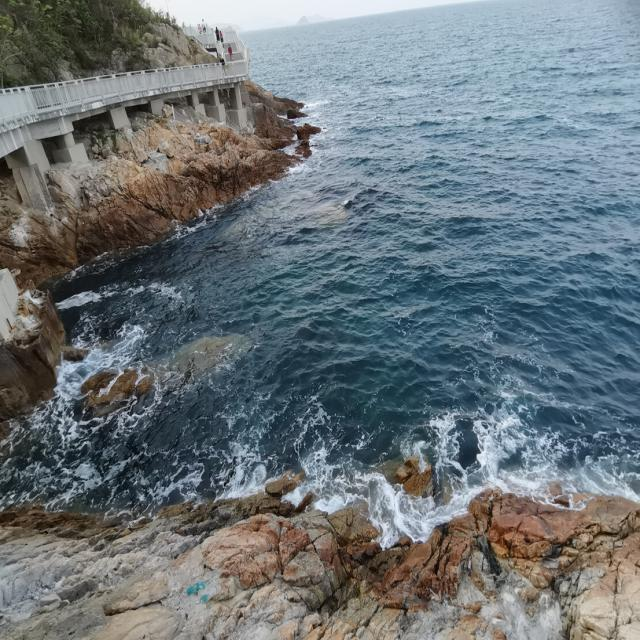reef: (34, 71, 301, 289)
